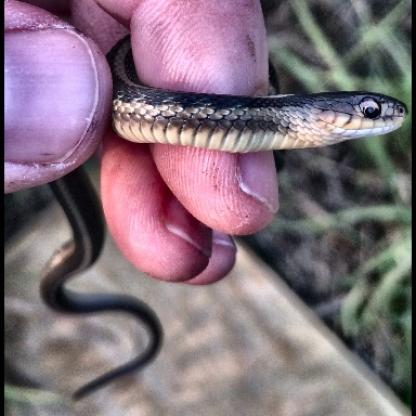Snake: (10, 0, 416, 158)
